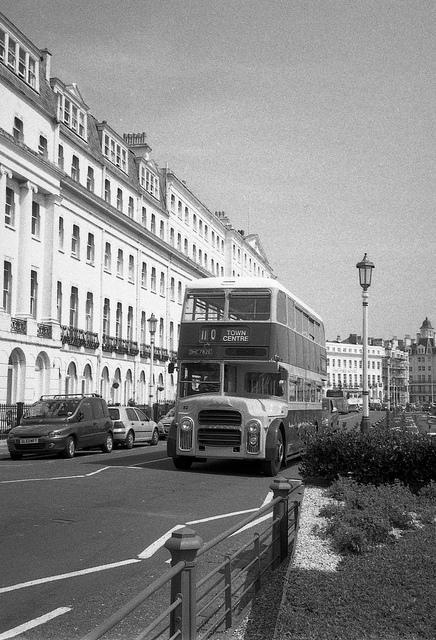bus: (167, 281, 334, 476)
car: (6, 391, 116, 464), (108, 407, 160, 448), (156, 406, 175, 439)
